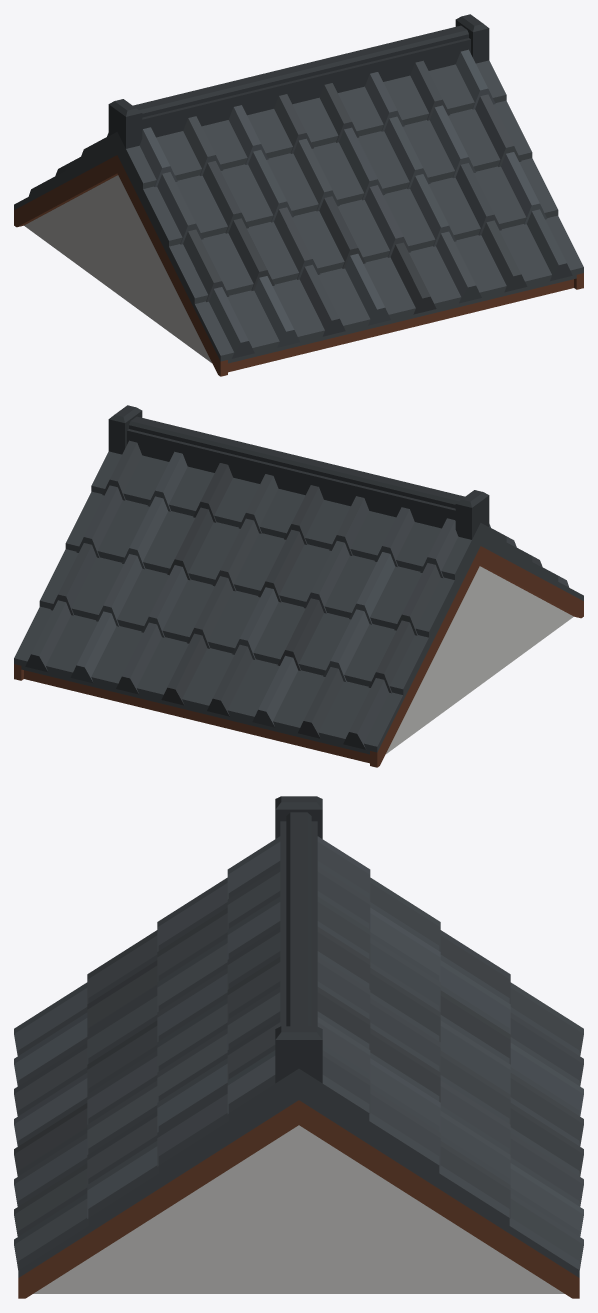
The model's file is tiled-roof-section-6f1121.glb.
3 views of the same model, one above another, from view 1: azimuth 30°, elevation 25°; view 2: azimuth 150°, elevation 25°; view 3: azimuth 270°, elevation 25° (orthographic). The views are drawn at different scales.
Parts seen in each view (by area): view 1: kawara-roof; view 2: kawara-roof; view 3: kawara-roof.
Part boxes in pixels (x1,y1,x2,y2): kawara-roof: (14,14,583,376); kawara-roof: (14,405,583,767); kawara-roof: (14,796,583,1298).
Bounding box in the file's own units: 4 × 2.04 × 4.
